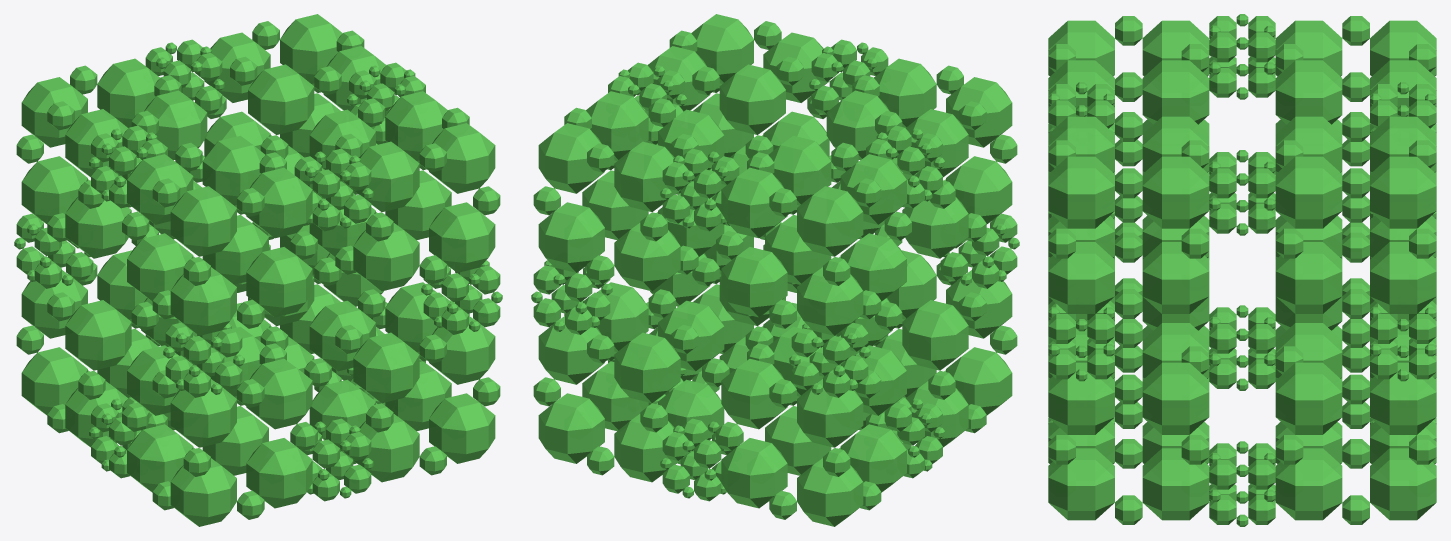
Rendered from fractalrhombicuboctahedron3-2.glb.
3 renders of one model, left to right at view 1: azimuth 30°, elevation 25°; view 2: azimuth 150°, elevation 25°; view 3: azimuth 270°, elevation 25°, orthographic. The views are drawn at different scales.
Size of the model in its own units: 7.21 by 7.21 by 7.21.
